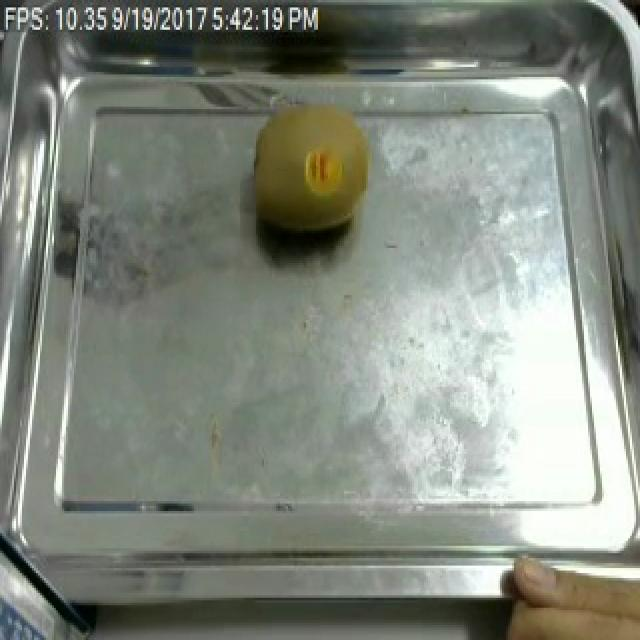Fruit: (242, 89, 382, 246), (490, 536, 640, 640)
